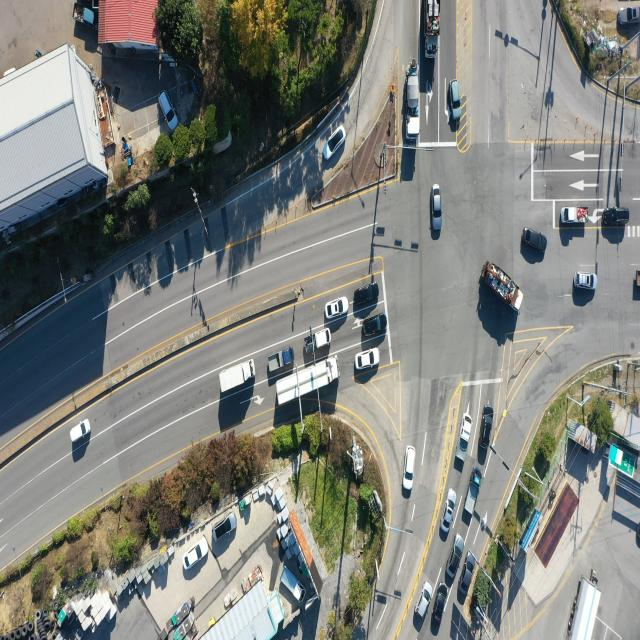car: (158, 92, 180, 134), (184, 540, 210, 572), (448, 533, 466, 578), (324, 126, 346, 160), (602, 204, 630, 229), (442, 491, 458, 534), (462, 556, 478, 598), (361, 316, 387, 340), (525, 226, 549, 252), (366, 312, 392, 336), (354, 348, 379, 372), (404, 444, 417, 490), (417, 583, 433, 620), (324, 297, 348, 321), (354, 283, 379, 306), (214, 513, 236, 539), (433, 584, 448, 622), (360, 354, 385, 376), (431, 184, 442, 231), (482, 407, 494, 450), (450, 79, 462, 120), (70, 420, 90, 444), (618, 6, 640, 25), (576, 272, 598, 290)
medium_truck: (272, 353, 338, 406), (565, 579, 600, 640), (483, 261, 522, 313), (218, 361, 253, 396), (423, 0, 442, 62), (408, 70, 423, 142)
small_truck: (278, 561, 307, 605), (453, 413, 472, 463), (464, 470, 482, 516), (303, 328, 331, 356), (267, 347, 295, 373), (73, 2, 97, 29), (560, 206, 588, 226)
